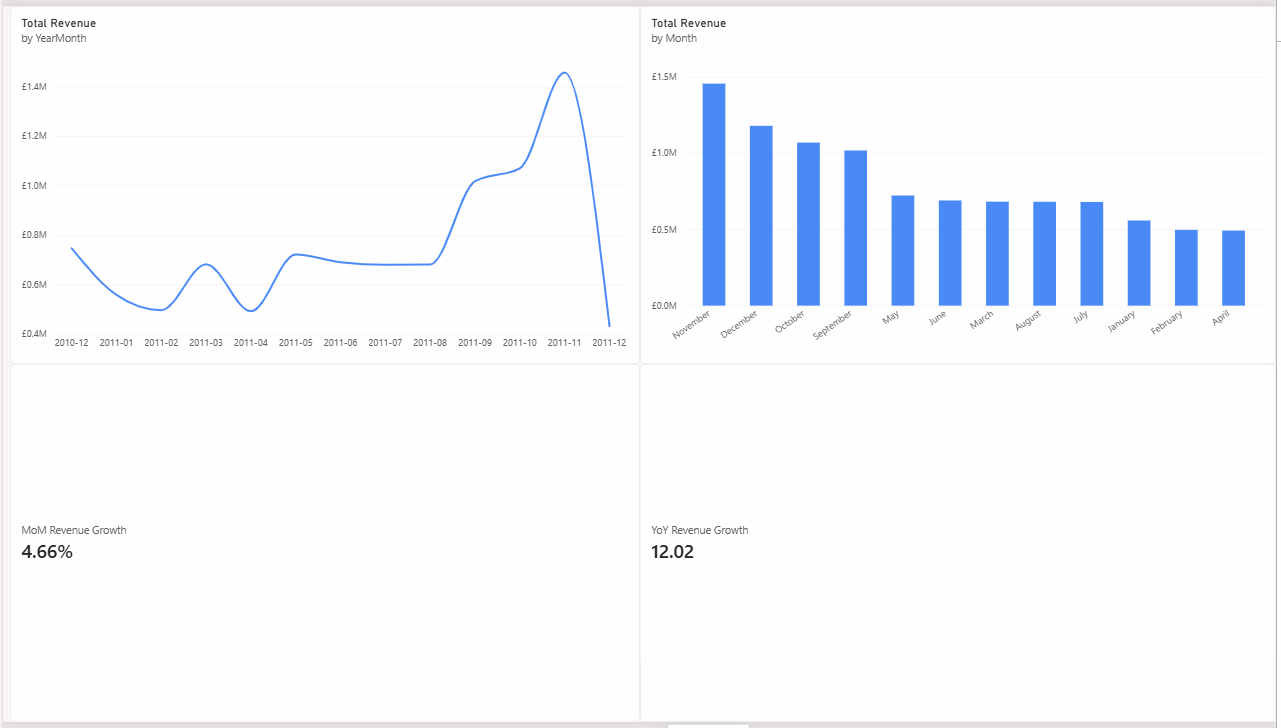

Layout of this report page (visuals, bound fields, positions):
{"tool":"powerbi","page":{"name":"Sales Trends","canvas":[1920,1080],"ordinal":4},"visuals":[{"type":"lineChart","fields":{"Category":["DimDate.YearMonth"],"Y":["FactSales.Total Revenue"]},"box":[10.6,0,950.2,540],"z":0},{"type":"columnChart","fields":{"Category":["DimDate.Month"],"Y":["FactSales.Total Revenue"]},"box":[960.8,0,959.2,540],"z":1},{"type":"cardVisual","fields":{"Data":["FactSales.MoM Revenue Growth"]},"box":[10.6,540,950.2,540],"z":2},{"type":"cardVisual","fields":{"Data":["FactSales.YoY Revenue Growth"]},"box":[961,540,959,540],"z":3}]}

Visuals, with their boxes in screenshot pixels (x1, y1, x2, y2), scaled from the page's 1920x1080 canvas onto the 1281x728 screenshot:
lineChart - DimDate.YearMonth x FactSales.Total Revenue: BBox(7, 0, 641, 364)
columnChart - DimDate.Month x FactSales.Total Revenue: BBox(641, 0, 1280, 364)
cardVisual - FactSales.MoM Revenue Growth: BBox(7, 364, 641, 727)
cardVisual - FactSales.YoY Revenue Growth: BBox(641, 364, 1280, 727)
